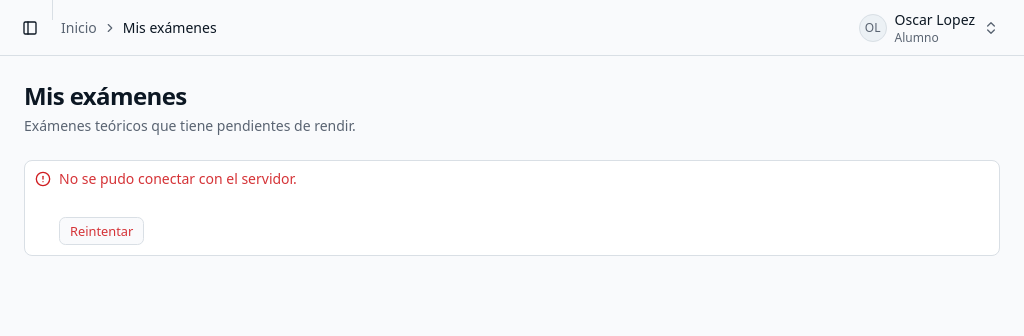
Mis exámenes › CA-EXA-13 un fallo en la primera carga ofrece Reintentar
Expected: the heading "Mis exámenes" is shown, [24,79,187,112]
Expected: the text "No se pudo conectar con el servidor." is shown, [59,169,297,188]
Click the button "Reintentar" at (102, 231), box [59,217,144,245]
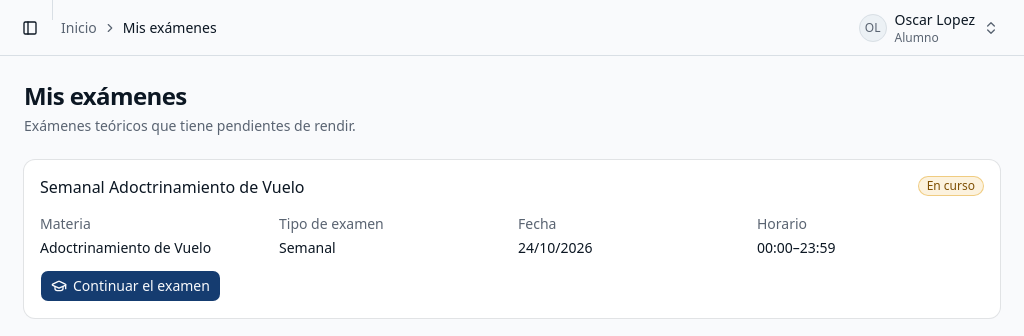
Now the element named "Exámenes pendientes" is shown, box [24,160,1000,318]
